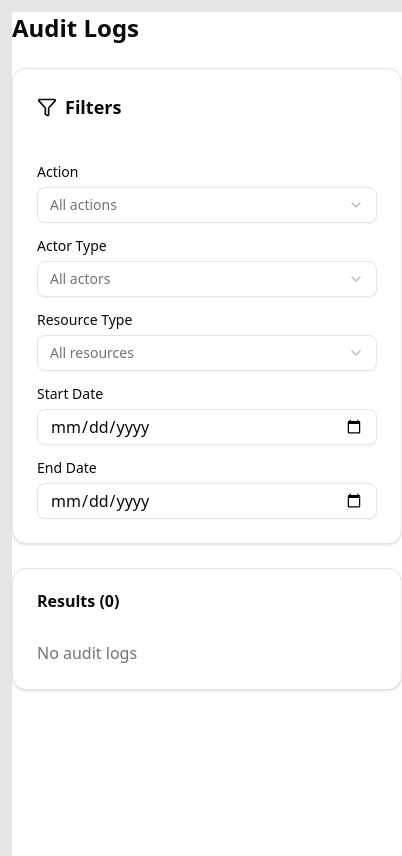
it: AuditLogs › displays Clear button when filters are active
Expected: the text "Clear" is not shown
Type "2026-01-01" into the date field below "Start Date" at (207, 427), box top-left (37, 409), bottom-right (377, 445)
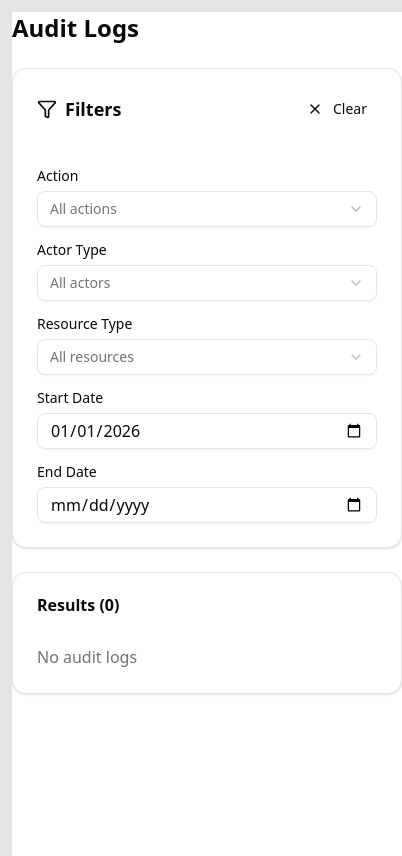
Now the button "Clear" is shown, box top-left (297, 93), bottom-right (377, 125)
